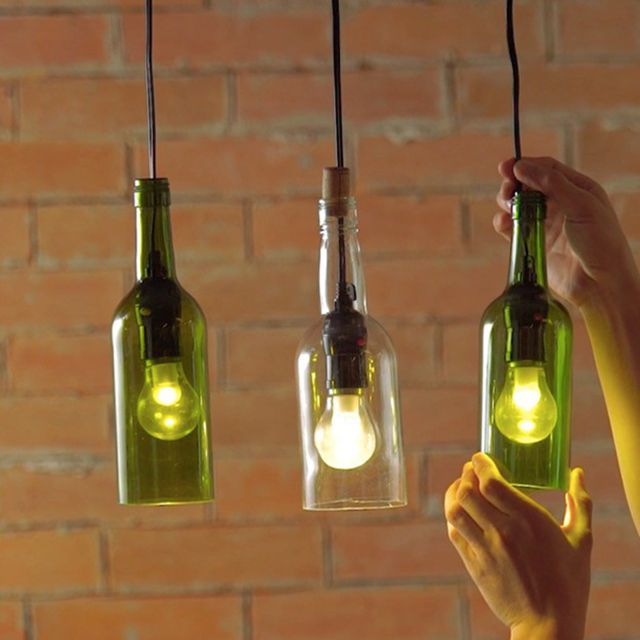glass_bottle: (100, 169, 225, 517), (292, 191, 415, 519), (471, 185, 580, 504)
